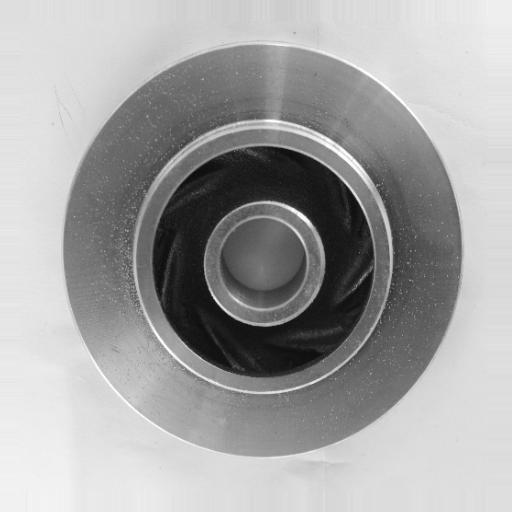polished_casting: (63, 39, 462, 464)
